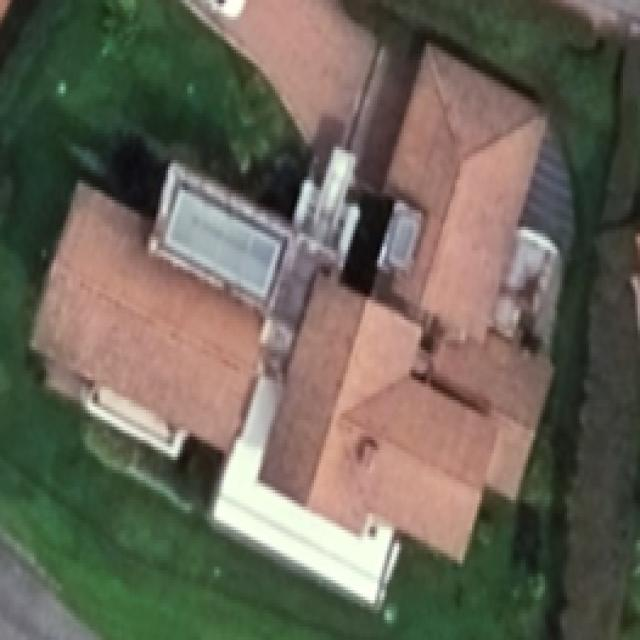Batiment: (376, 46, 553, 497), (263, 276, 496, 561), (34, 185, 261, 451)
